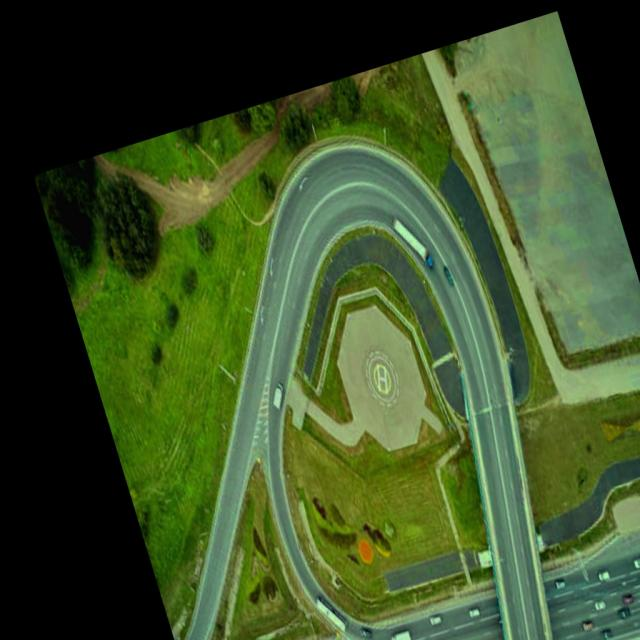helipad: (370, 363, 393, 395)
